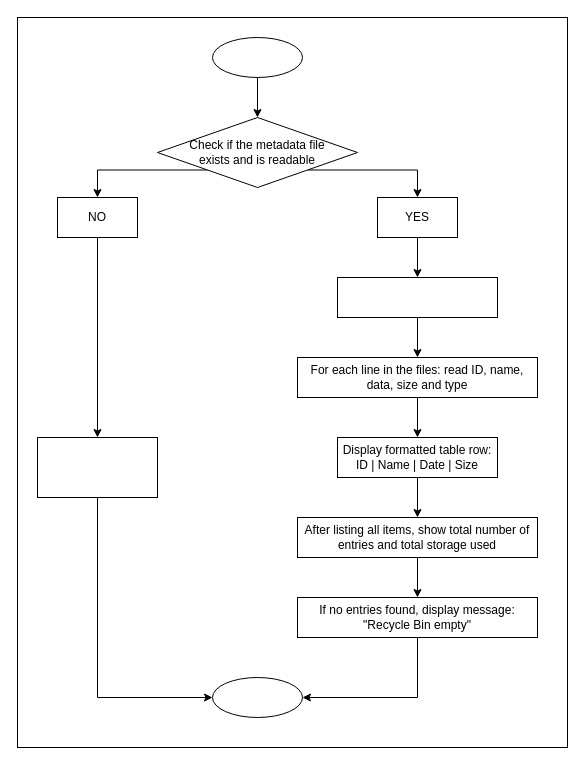
This 585x765 diagram has some shape labels left out. Here are the shapes that lost their labels. From the top down, the box of each, then its label:
(212, 36, 302, 78): START
(336, 276, 498, 318): Read metadata file (skip the header line)
(36, 436, 158, 498): Display error message: "Metadata file not found"
(212, 676, 302, 718): END
